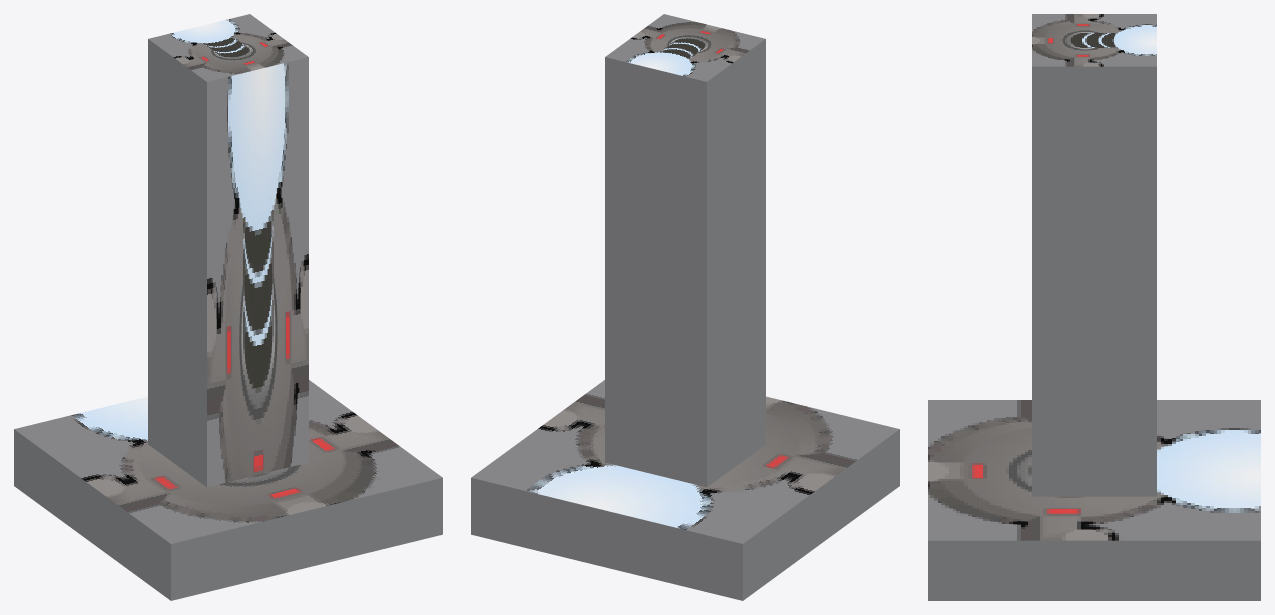
File: Building_MechBooster.glb
3 views of the same model, side by side, from view 1: azimuth 30°, elevation 25°; view 2: azimuth 150°, elevation 25°; view 3: azimuth 270°, elevation 25° (orthographic). The views are drawn at different scales.
Parts seen in each view (by area): view 1: MechBooster; view 2: MechBooster; view 3: MechBooster.
Part boxes in pixels (x1,y1,x2,y2): MechBooster: (14, 14, 442, 600); MechBooster: (471, 14, 899, 600); MechBooster: (928, 14, 1260, 600).
Size of the model in its own units: 0.8 by 1.3 by 0.8.
Materials: 1 (1 with a texture image).
